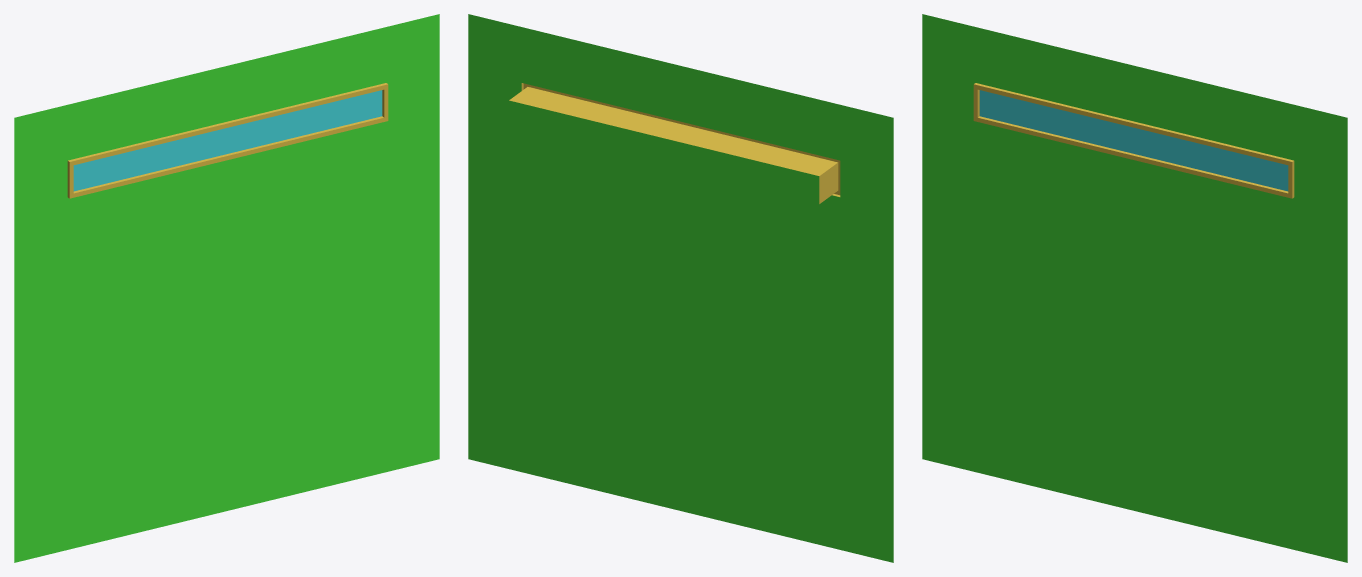
Rendered from Wall_54_A.fbx.
3 views of the same model, side by side, from view 1: azimuth 30°, elevation 25°; view 2: azimuth 150°, elevation 25°; view 3: azimuth 330°, elevation 25° (orthographic).
Parts seen in each view (by area): view 1: Wall_54_A; view 2: Wall_54_A; view 3: Wall_54_A.
Part boxes in pixels (bbox=[...]): Wall_54_A: bbox=[14, 14, 439, 562]; Wall_54_A: bbox=[468, 14, 893, 562]; Wall_54_A: bbox=[922, 14, 1347, 562].
Bounding box in the file's own units: 457 × 457 × 34.93.
